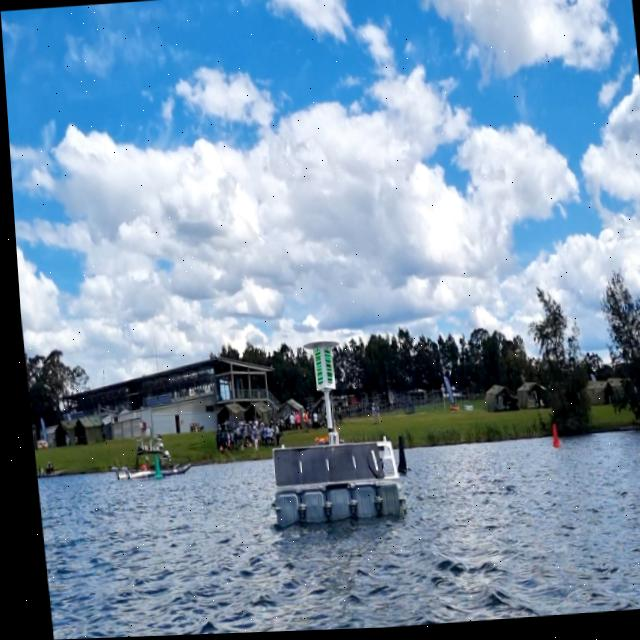led: (308, 350, 328, 390), (317, 348, 328, 388), (308, 351, 318, 388)
